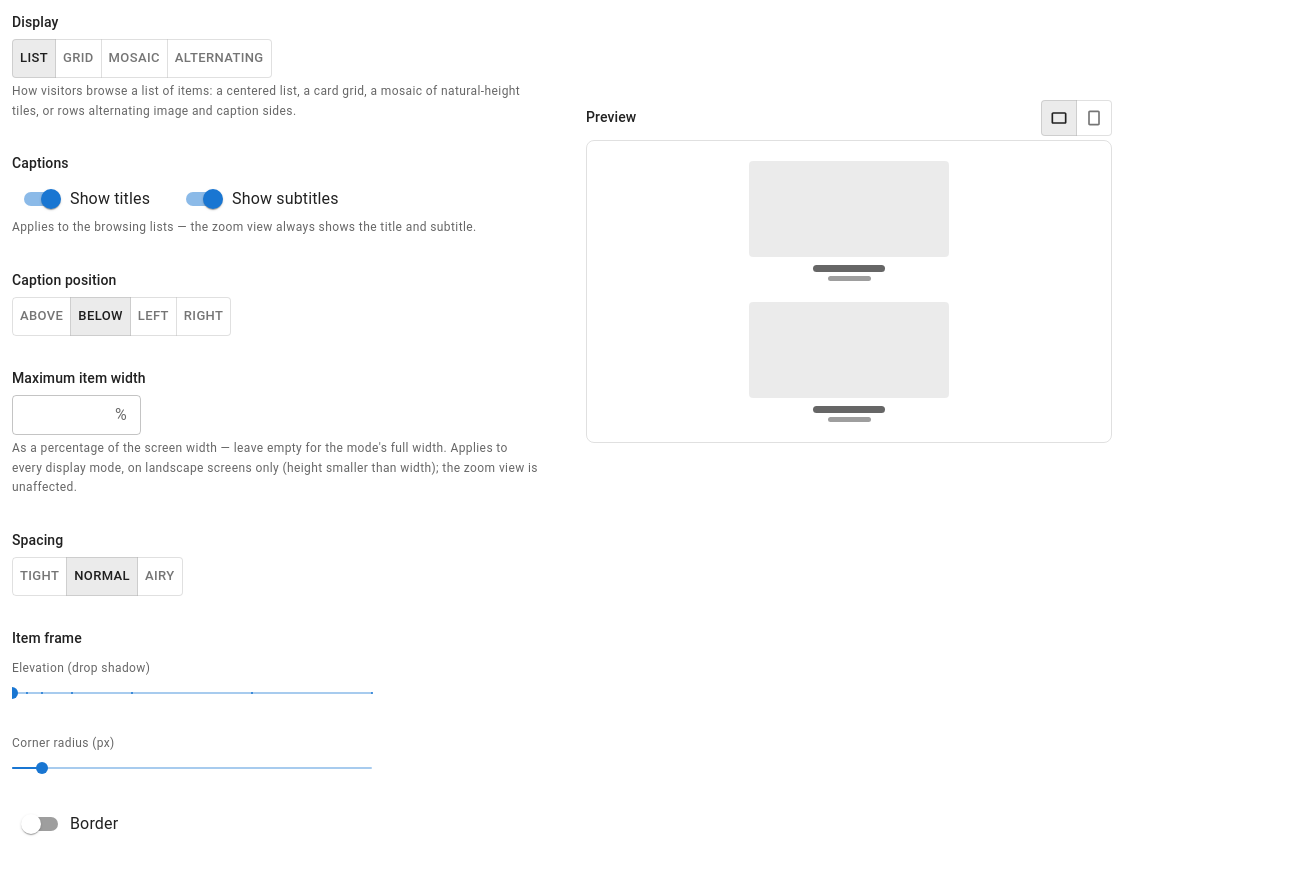
Test case: GalleryDesignEditor › shows the symbolic skeleton preview matching the picked mode
The image size is (1292, 871).
Expected: the element with test id "gallery-preview-list" is shown, top-left (586, 140), bottom-right (1112, 443)
Click the button "Mosaic" at (134, 58), box top-left (101, 39), bottom-right (168, 78)
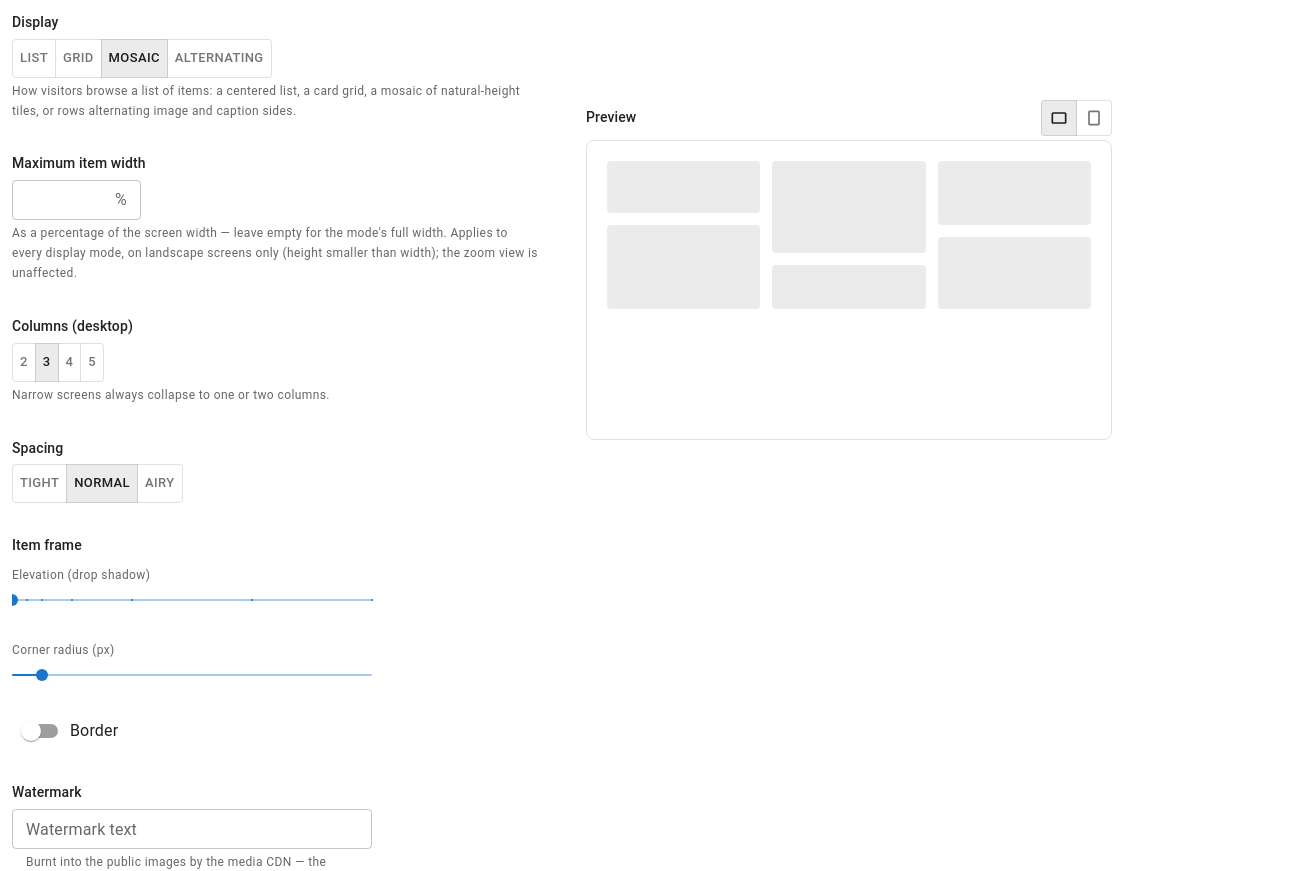
Now the element with test id "gallery-preview-mosaic" is shown, box top-left (586, 140), bottom-right (1112, 440)
Click the button "Alternating" at (219, 58), box top-left (167, 39), bottom-right (272, 78)
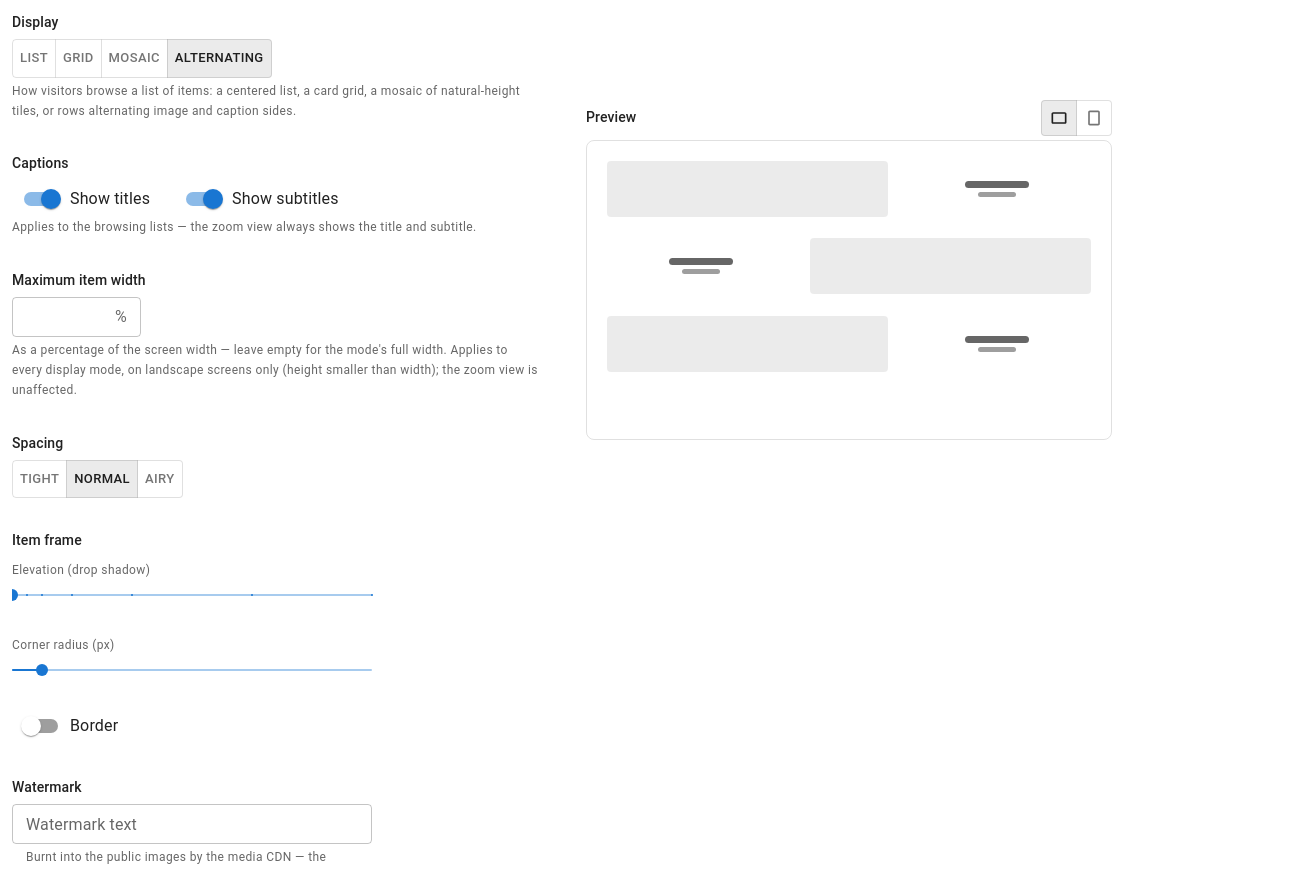
Now the element with test id "gallery-preview-alternate" is shown, box top-left (586, 140), bottom-right (1112, 440)
